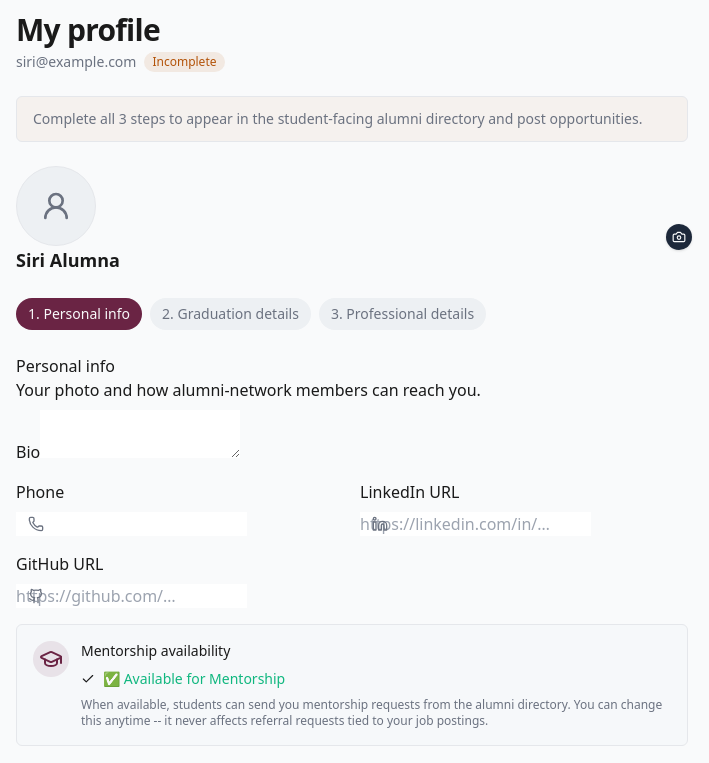
Test case: AlumniProfileWizard › loads the profile and shows the read-only graduation block on Step 2
Expected: the text "siri@example.com" is shown, [16, 52, 136, 72]
Click the button "2. Graduation details" at (231, 314), box [150, 298, 311, 330]
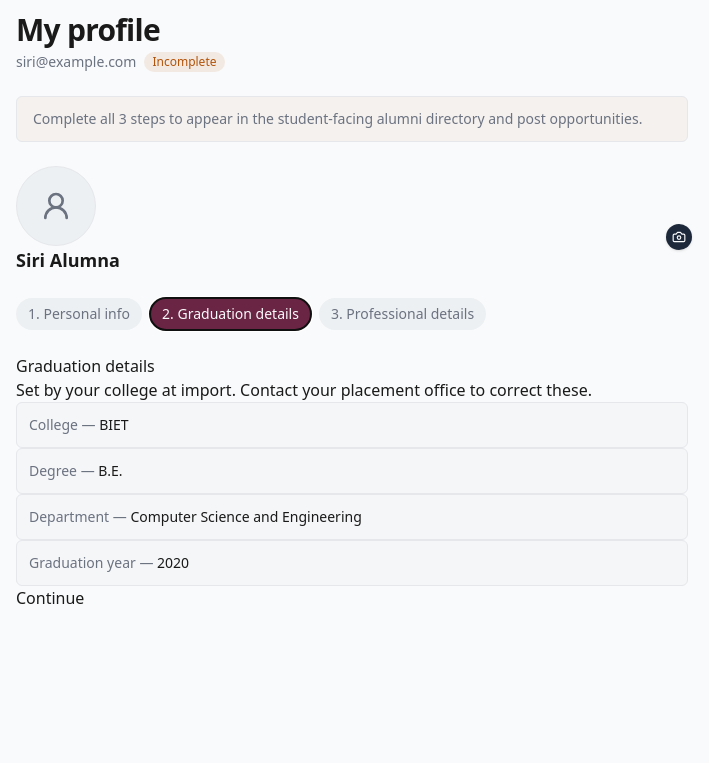
Expected: the text "BIET" is shown, [99, 415, 129, 434]
Expected: the text "B.E." is shown, [98, 461, 123, 480]
Expected: the text "Computer Science and Engineering" is shown, [130, 507, 362, 526]
